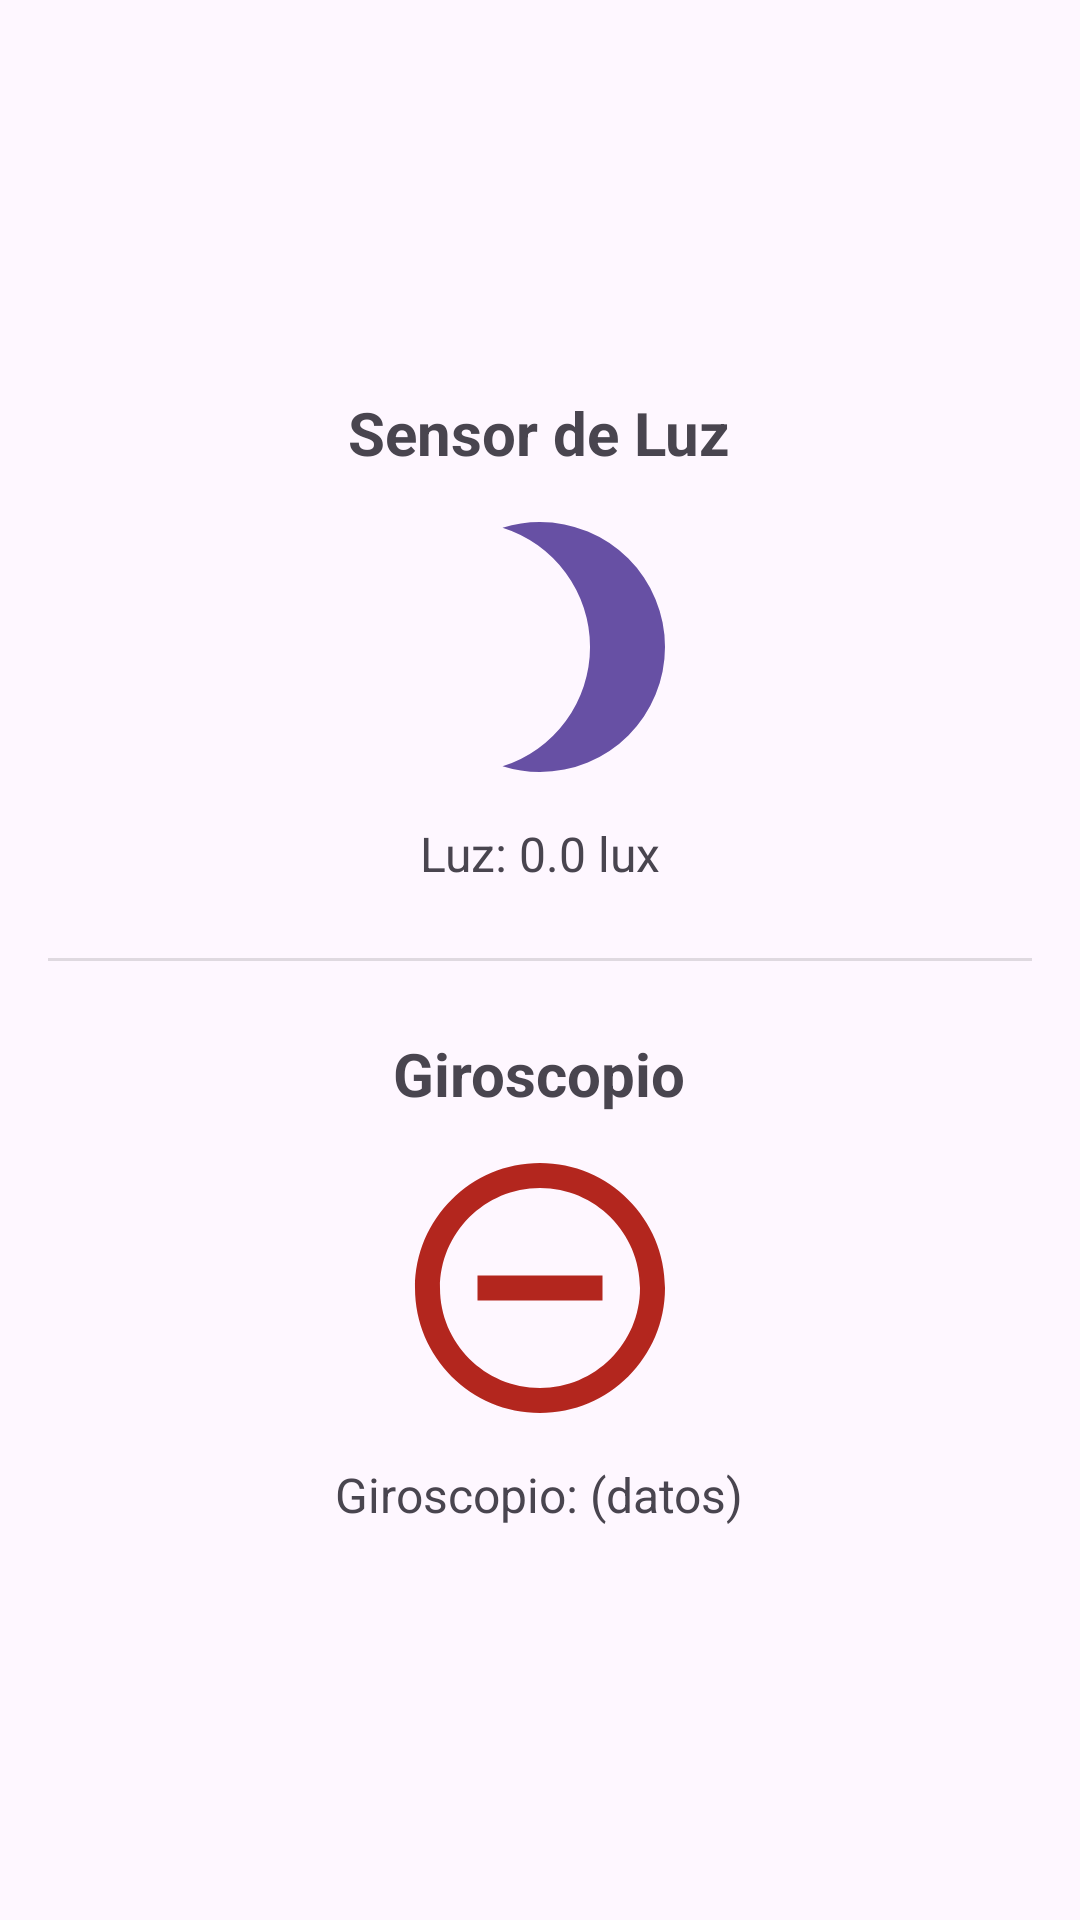

Screen size 1080w x 1920h. Icon name, then its box in pixels as (x1, y1, x2, y2):
moon: (503, 522, 665, 772)
